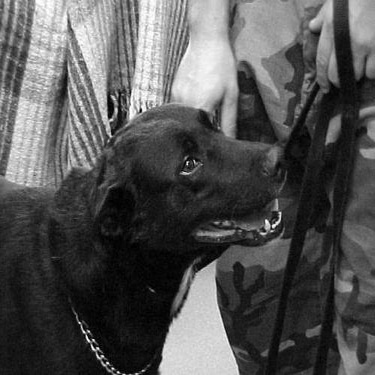dog: (1, 98, 291, 371)
